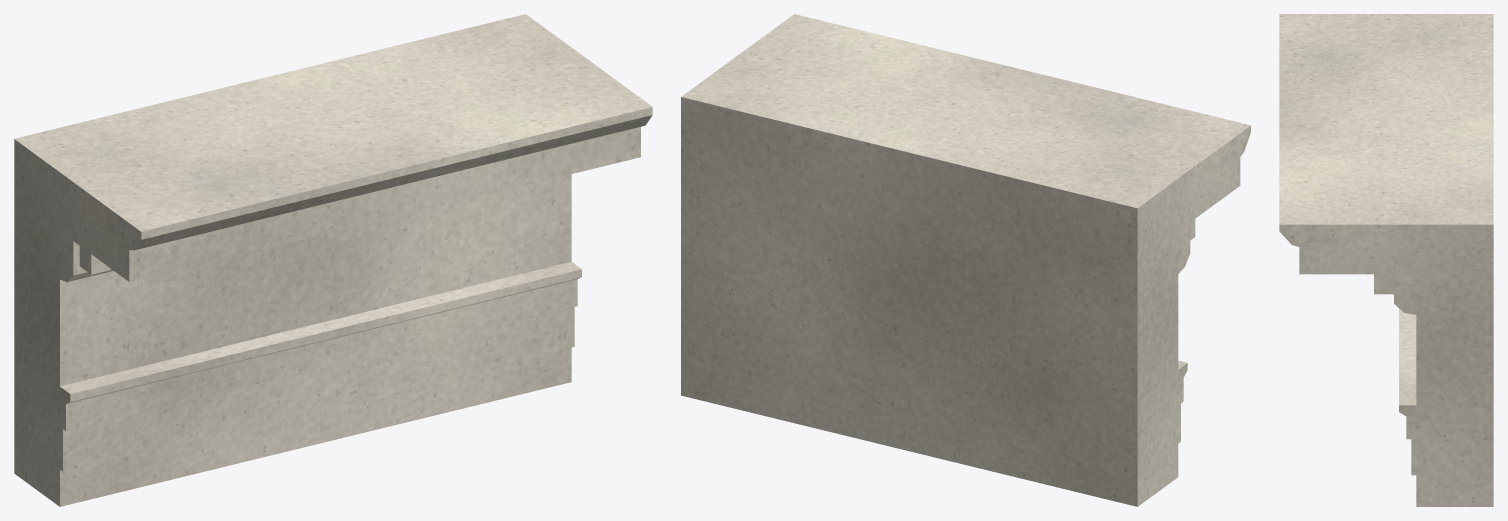
Rendered from ent.glb.
3 renders of one model, left to right at view 1: azimuth 30°, elevation 25°; view 2: azimuth 150°, elevation 25°; view 3: azimuth 270°, elevation 25°, orthographic. The views are drawn at different scales.
Visible parts, largest first — view 1: ent_carve; view 2: ent_carve; view 3: ent_carve.
Part boxes in pixels (box(x1,y1,x2,y2)): ent_carve: box(14, 14, 652, 506); ent_carve: box(681, 14, 1250, 506); ent_carve: box(1279, 14, 1493, 506).
Size of the model in its own units: 2 by 1.25 by 0.86.
Materials: 1 (1 with a texture image).
